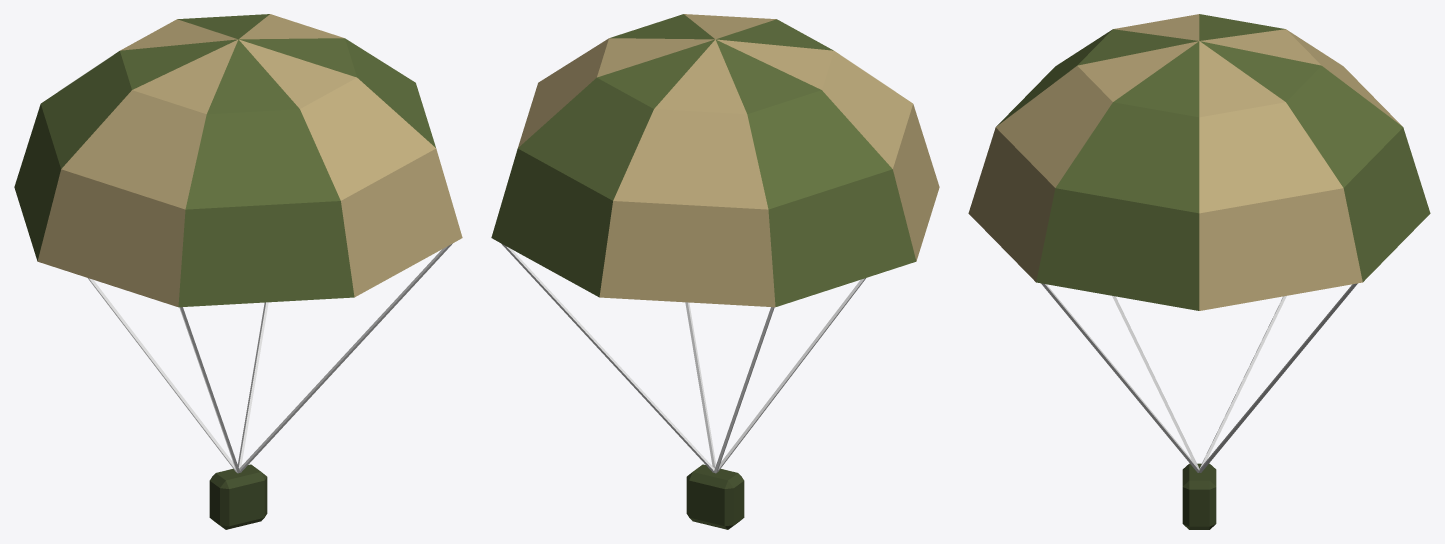
Rendered from Parachute.fbx.
3 views of the same model, side by side, from view 1: azimuth 30°, elevation 25°; view 2: azimuth 150°, elevation 25°; view 3: azimuth 270°, elevation 25° (orthographic).
Visible parts, largest first — view 1: Parachute; view 2: Parachute; view 3: Parachute.
Boxes of the visible parts, x1,y1,x2,y2 form: Parachute: [14, 14, 462, 529]; Parachute: [491, 14, 939, 529]; Parachute: [968, 14, 1430, 529].
Bounding box in the file's own units: 6.8 × 7.8 × 6.8.
Materials: 1 (1 with a texture image).
